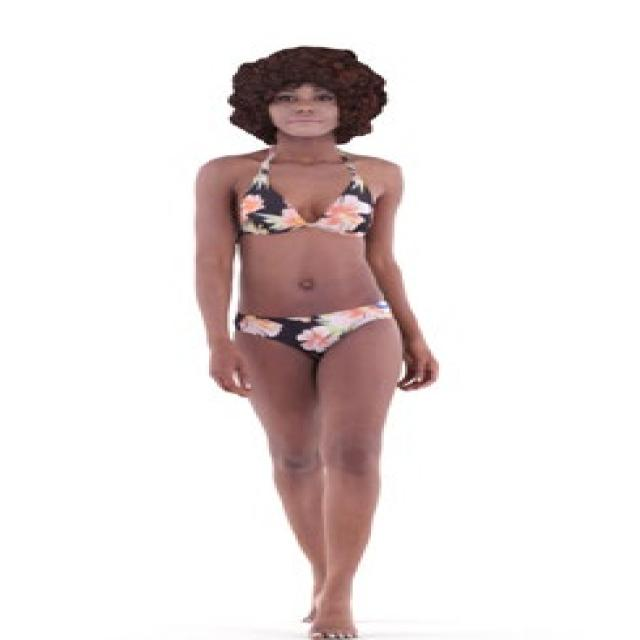standing: (190, 45, 446, 639)
